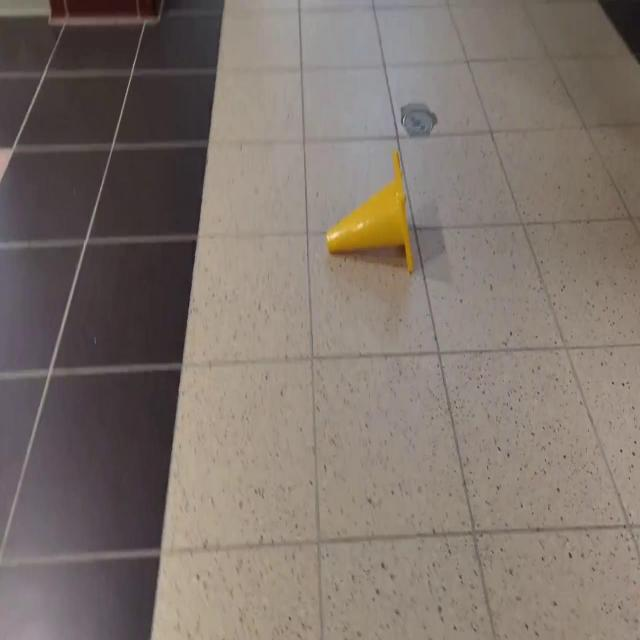frc_cone: (326, 151, 414, 272)
